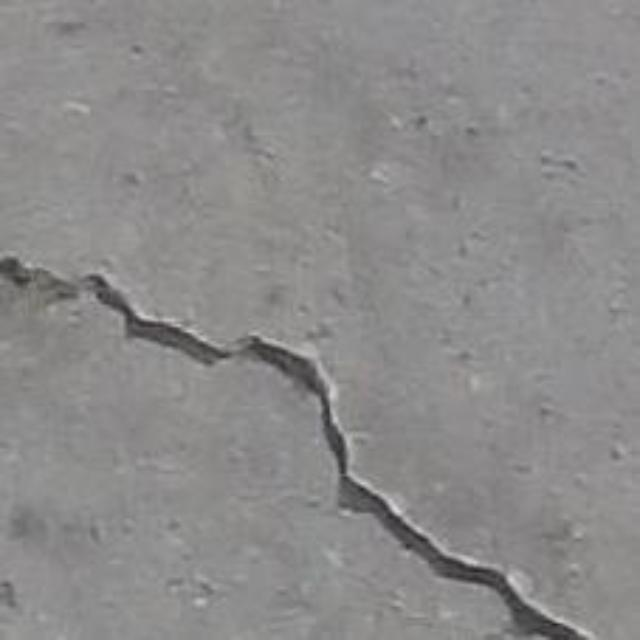crack: (0, 254, 592, 639)
